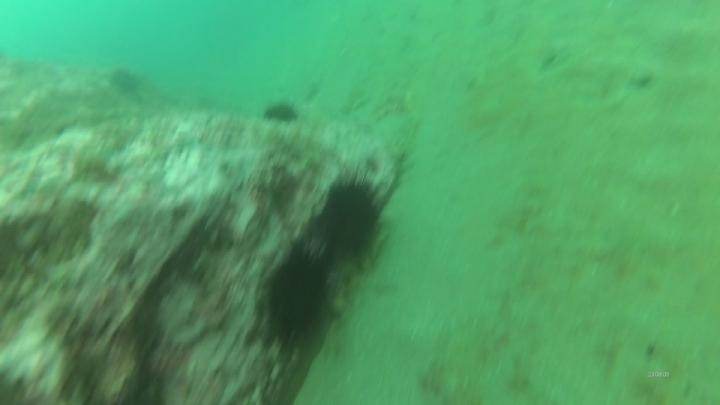echinus: (259, 242, 336, 349), (315, 170, 390, 266), (107, 65, 145, 99), (260, 98, 302, 128)
